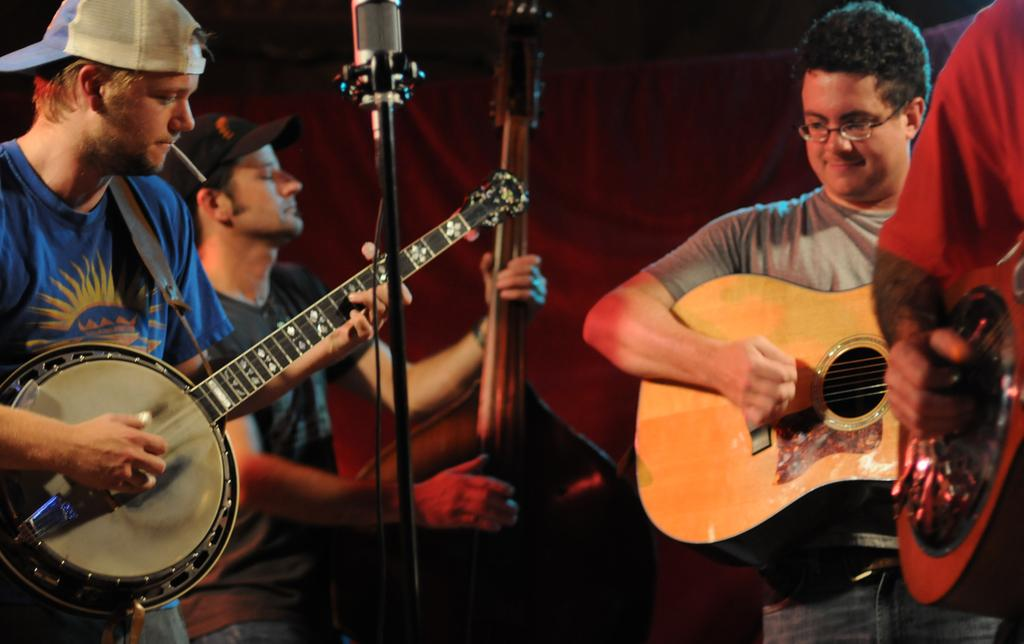Hat: (0, 0, 207, 73), (162, 113, 302, 202)
